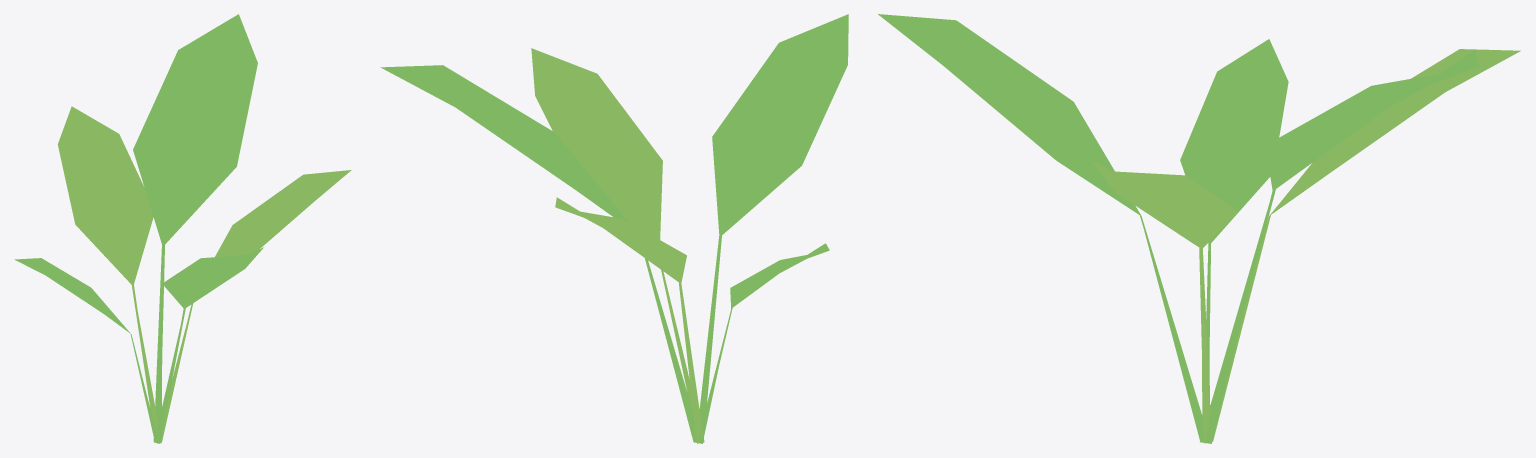
The model's file is Plant_j_OneS_10.fbx.
3 renders of one model, left to right at view 1: azimuth 30°, elevation 25°; view 2: azimuth 150°, elevation 25°; view 3: azimuth 270°, elevation 25°, orthographic. The views are drawn at different scales.
Visible parts, largest first — view 1: Plant_j_OneS_10; view 2: Plant_j_OneS_10; view 3: Plant_j_OneS_10.
Boxes of the visible parts, bbox=[...] form: Plant_j_OneS_10: bbox=[14, 14, 351, 443]; Plant_j_OneS_10: bbox=[380, 14, 848, 443]; Plant_j_OneS_10: bbox=[878, 14, 1520, 443].
Bounding box in the file's own units: 0.3173 × 0.3349 × 0.3892.
